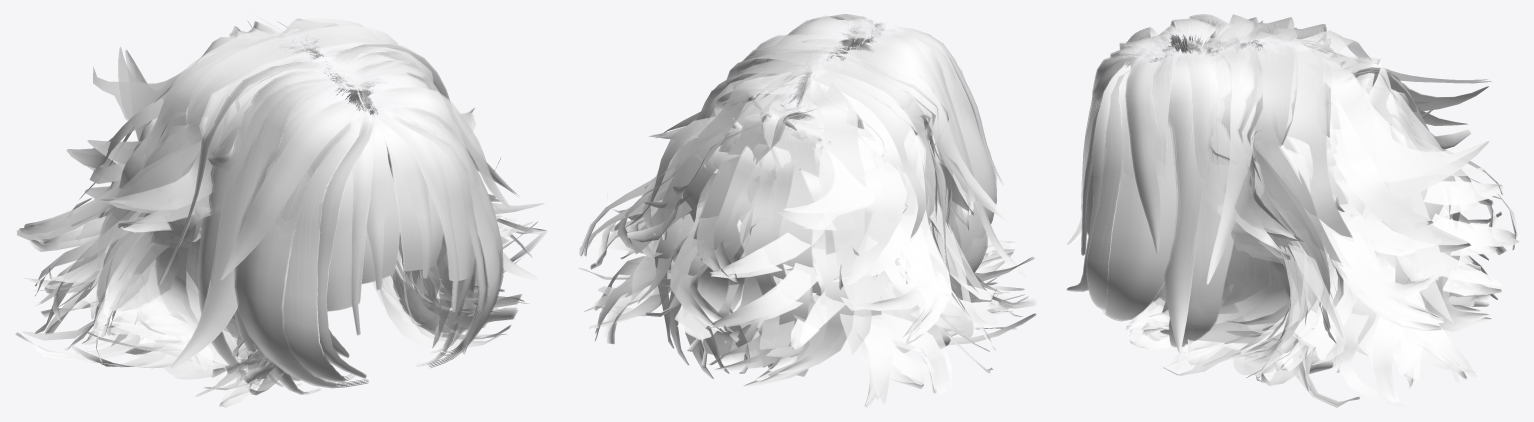
Rendered from side-part.glb.
The picture shows the model from 3 angles, left to right: view 1: azimuth 30°, elevation 25°; view 2: azimuth 150°, elevation 25°; view 3: azimuth 270°, elevation 25°; orthographic projection. The views are drawn at different scales.
Visible parts, largest first — view 1: WolfHair_0, FrontHair_2, SideHair_1; view 2: WolfHair_0, SideHair_1, FrontHair_2; view 3: WolfHair_0, FrontHair_2, SideHair_1.
Part boxes in pixels (<box>): WolfHair_0: <box>15,16,547,407</box>; FrontHair_2: <box>170,60,538,388</box>; SideHair_1: <box>158,44,519,394</box>; WolfHair_0: <box>578,39,1036,407</box>; SideHair_1: <box>752,14,1010,272</box>; FrontHair_2: <box>795,15,1026,277</box>; WolfHair_0: <box>1125,17,1519,407</box>; FrontHair_2: <box>1066,19,1217,352</box>; SideHair_1: <box>1125,14,1256,347</box>.
Size of the model in its own units: 0.3511 by 0.2139 by 0.3079.
Materials: 1 (1 with a texture image).
